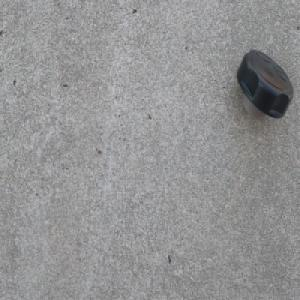FuelCap: (236, 48, 294, 121)
